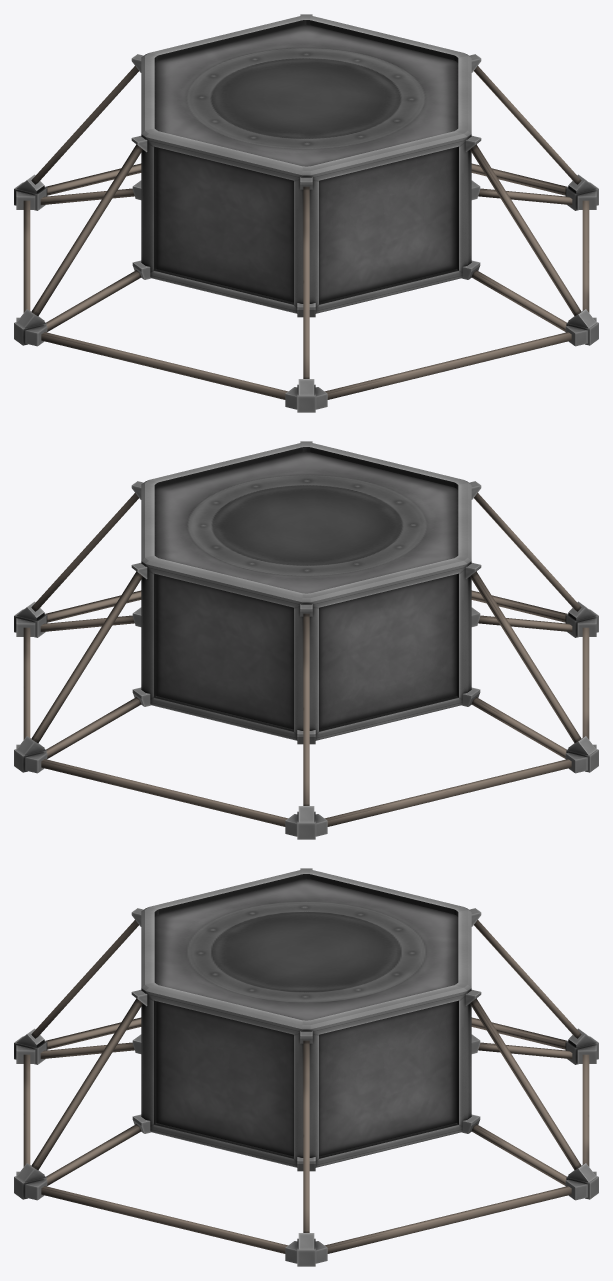
The model's file is bluedog_LunarOrbiter_Core_AO.fbx.
The picture shows the model from 3 angles, top to bottom: view 1: azimuth 30°, elevation 25°; view 2: azimuth 150°, elevation 25°; view 3: azimuth 270°, elevation 25°; orthographic projection.
Parts seen in each view (by area): view 1: RangerCore2; view 2: RangerCore2; view 3: RangerCore2.
Part boxes in pixels (left/top/right/bottom): RangerCore2: left=14, top=14, right=598, bottom=412; RangerCore2: left=14, top=441, right=598, bottom=839; RangerCore2: left=14, top=868, right=598, bottom=1266.
Bounding box in the file's own units: 1.03 × 0.3049 × 0.9039.
Materials: 1 (1 with a texture image).
